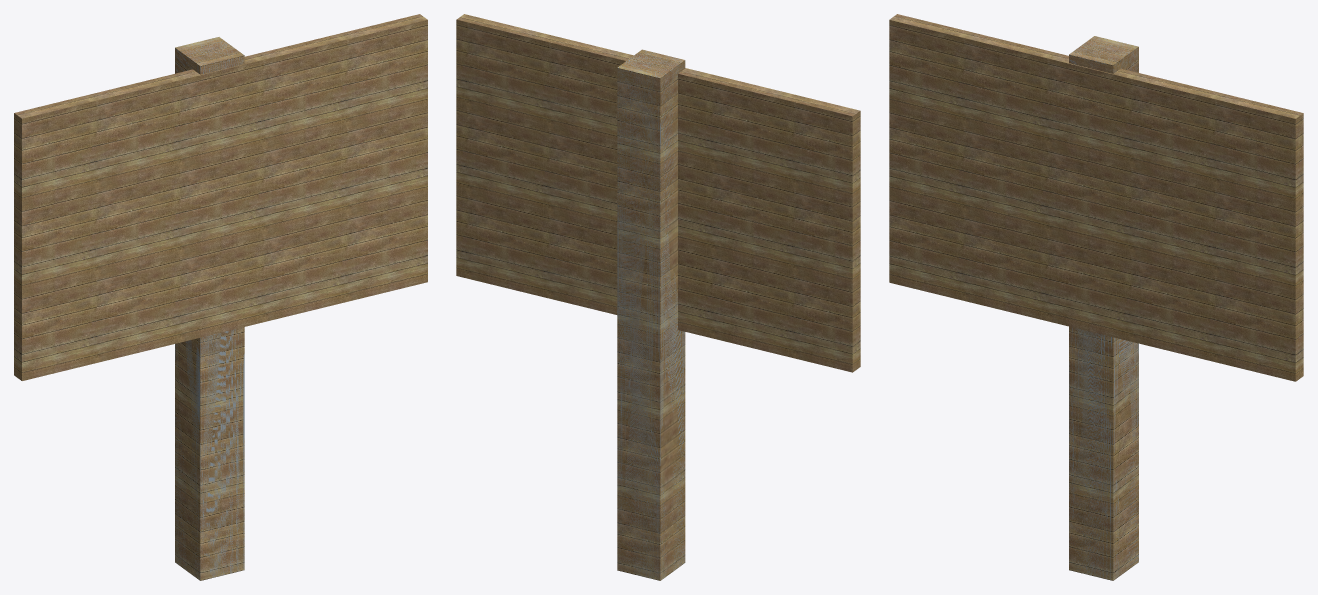
The model's file is sign.dae.
3 views of the same model, side by side, from view 1: azimuth 30°, elevation 25°; view 2: azimuth 150°, elevation 25°; view 3: azimuth 330°, elevation 25° (orthographic). The views are drawn at different scales.
Parts seen in each view (by area): view 1: Welcome_sign__Small_ (×2); view 2: Welcome_sign__Small_ (×2); view 3: Welcome_sign__Small_ (×2).
Boxes of the visible parts, x1,y1,x2,y2 form: Welcome_sign__Small_ (×2): [14, 14, 427, 580]; Welcome_sign__Small_ (×2): [456, 14, 860, 580]; Welcome_sign__Small_ (×2): [889, 14, 1303, 580].
Bounding box in the file's own units: 19.11 × 2.12 × 23.16.
3 materials, 1 textured.
